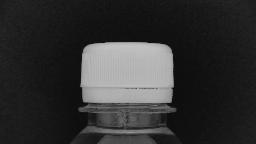Good Cap: (70, 35, 182, 118)
